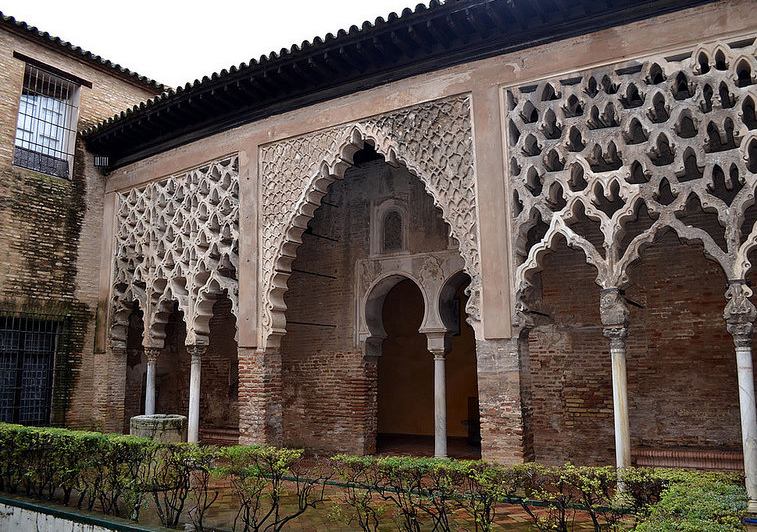arco-herradura: (356, 264, 433, 346)
arco-lobulado: (619, 213, 745, 353), (514, 219, 618, 353), (194, 272, 241, 359), (149, 285, 196, 363), (109, 289, 151, 366)
